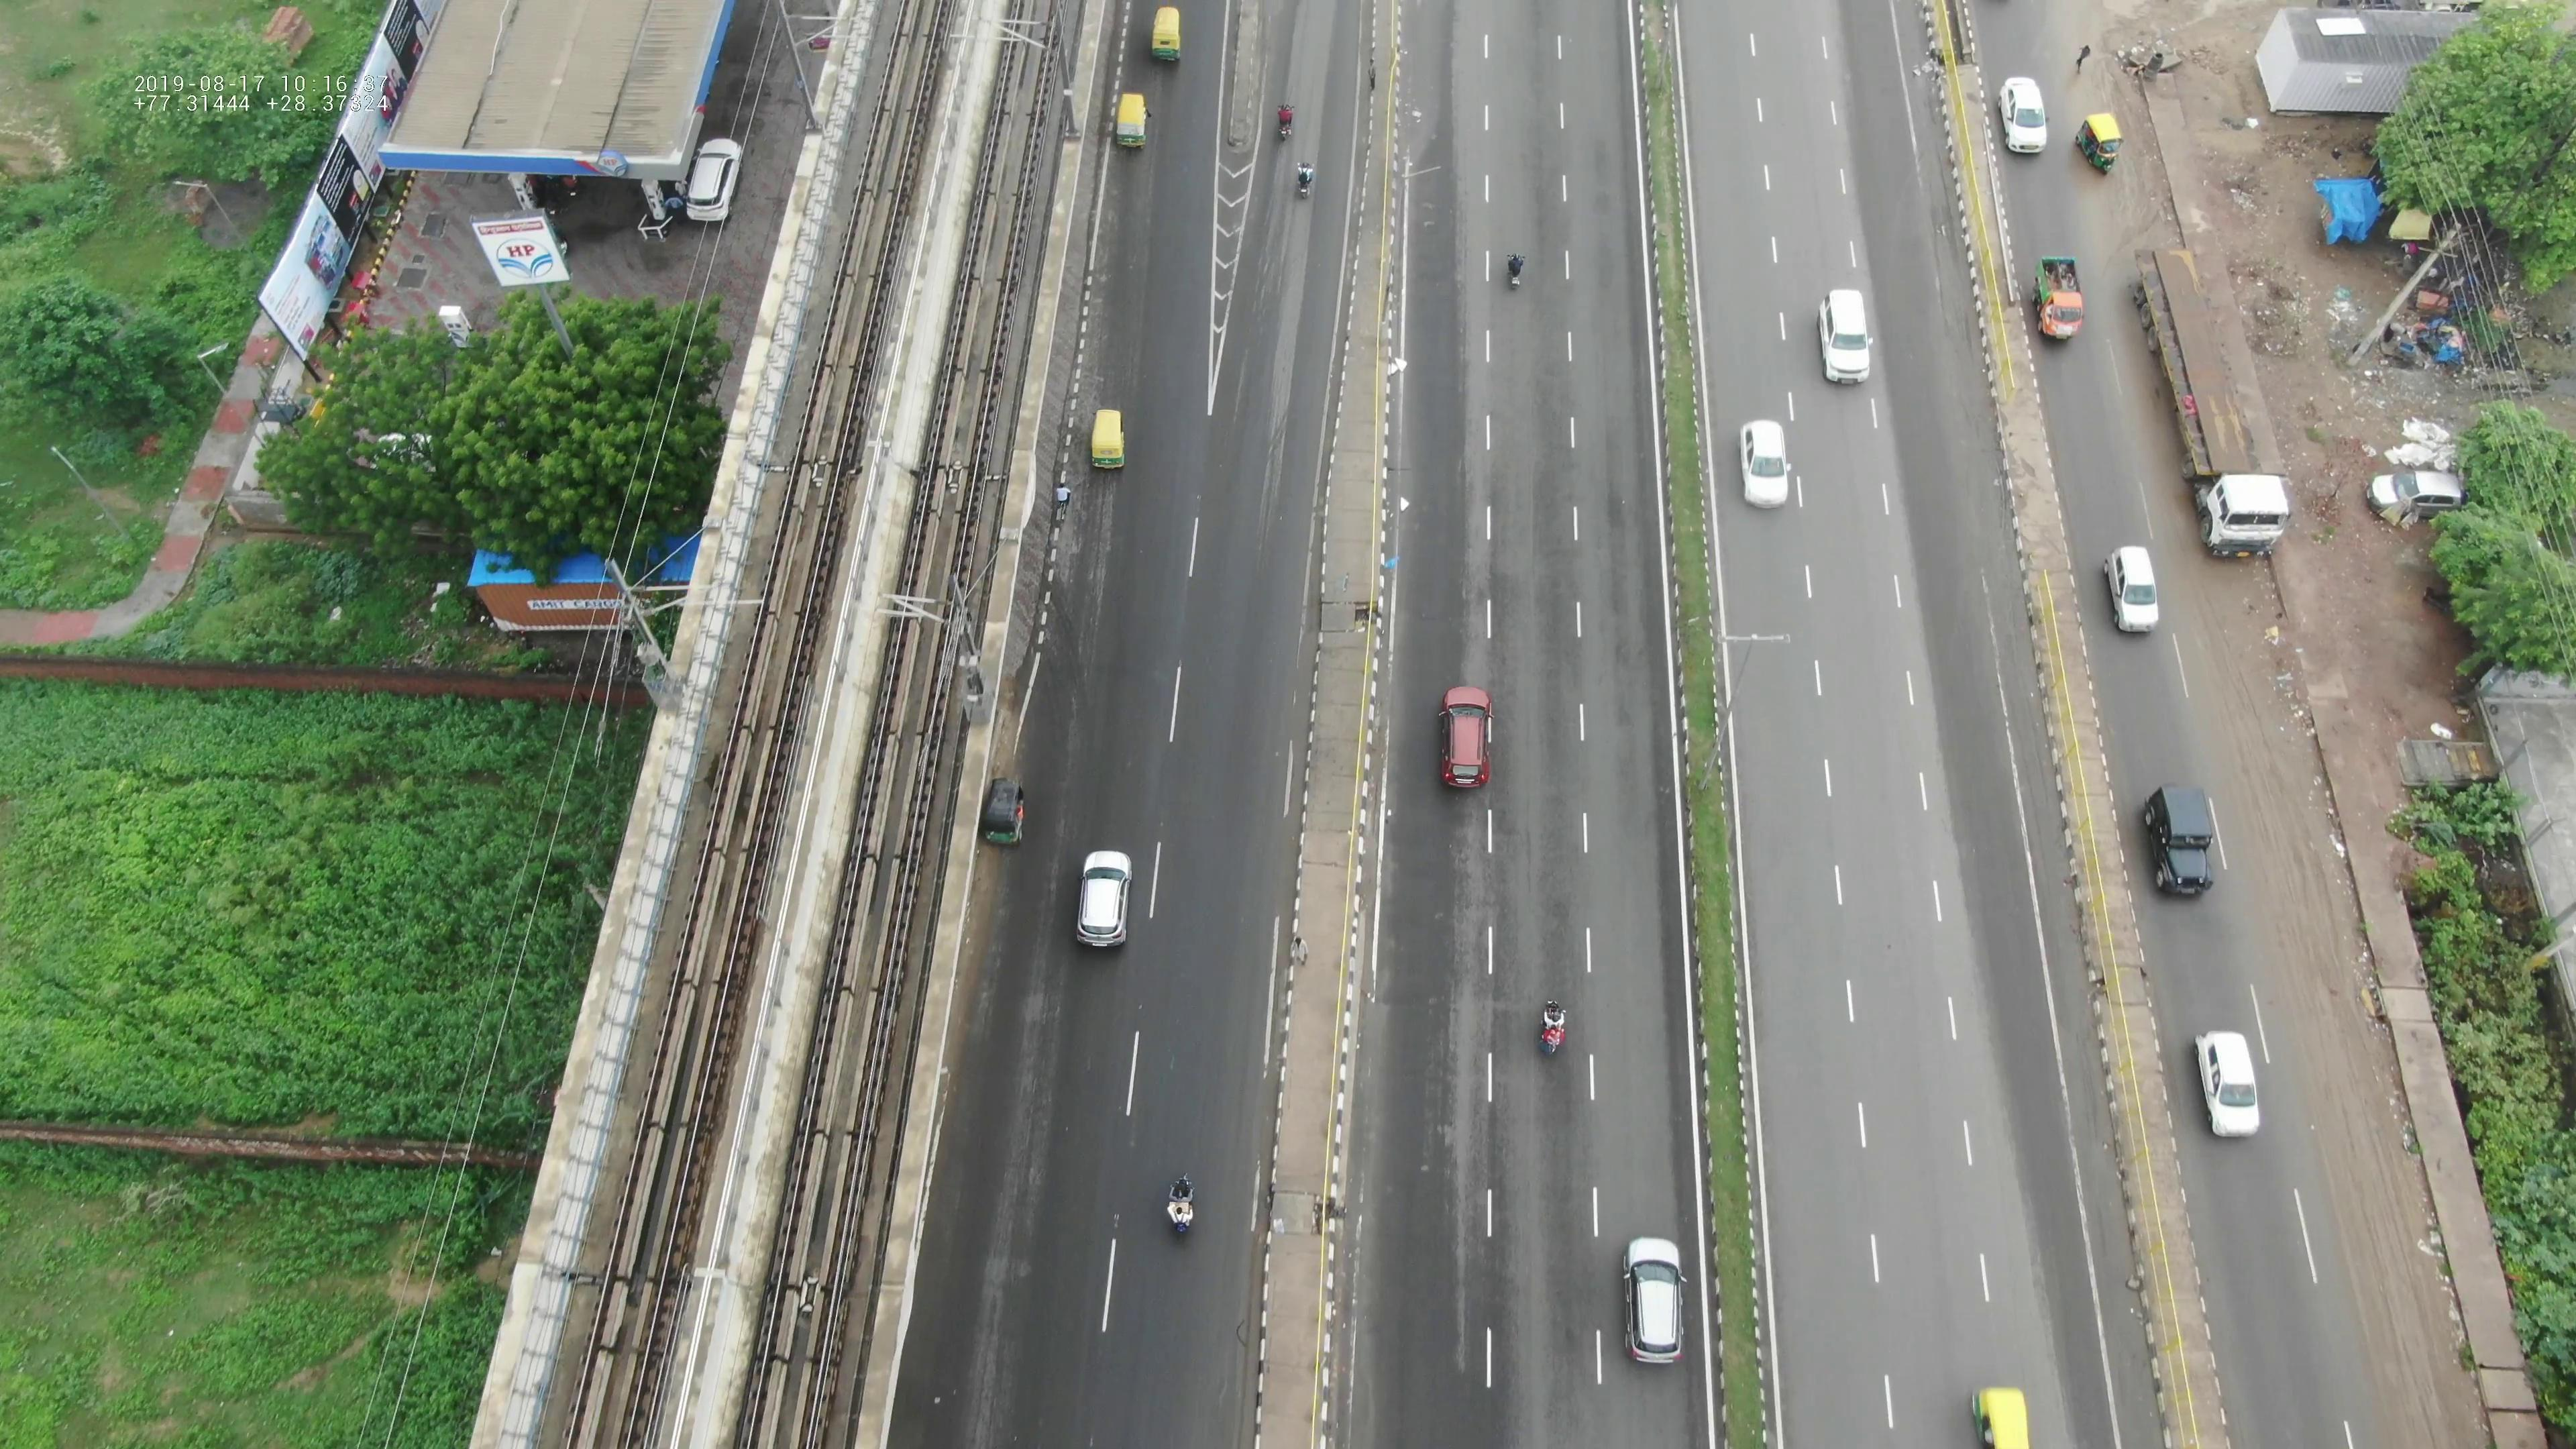Muddy_road: (2298, 1008, 2406, 1214), (2196, 648, 2305, 807)
